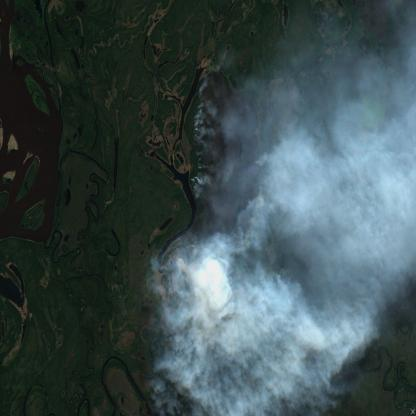fire: (190, 72, 209, 200)
